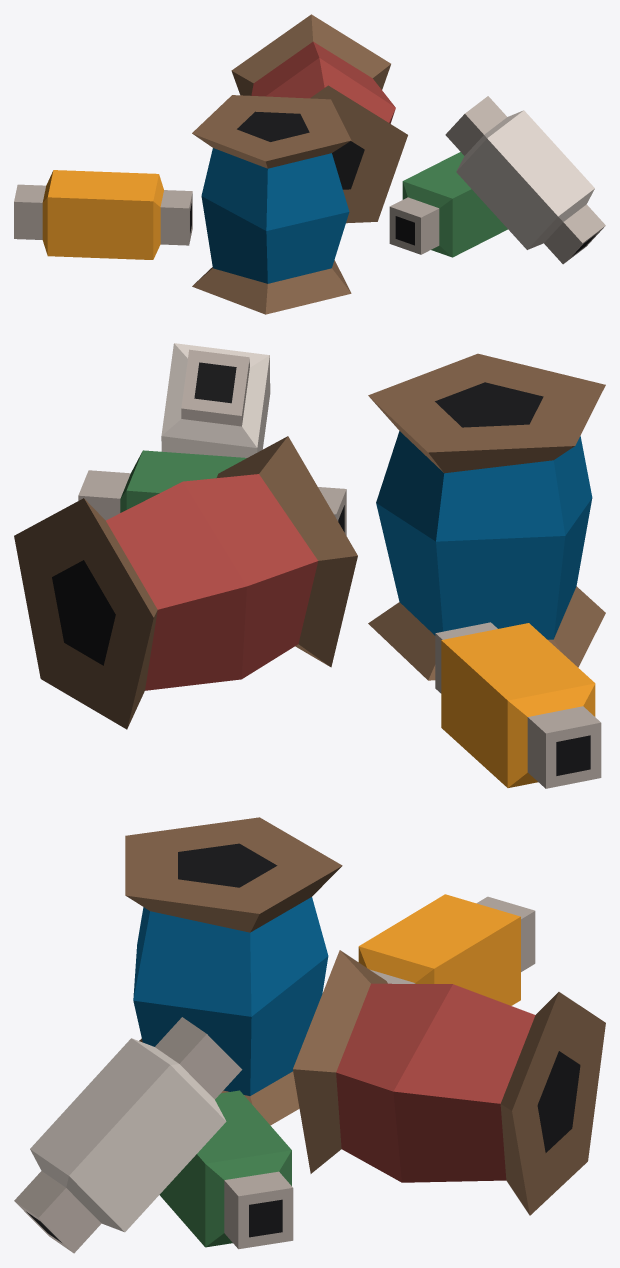
File: SM_Sewing_Threads.gltf
3 views of the same model, one above another, from view 1: azimuth 30°, elevation 25°; view 2: azimuth 150°, elevation 25°; view 3: azimuth 270°, elevation 25° (orthographic). The views are drawn at different scales.
Visible parts, largest first — view 1: SM_Sewing_Threads; view 2: SM_Sewing_Threads; view 3: SM_Sewing_Threads.
Part boxes in pixels (box(x1,y1,x2,y2)): SM_Sewing_Threads: box(14, 14, 605, 314); SM_Sewing_Threads: box(14, 343, 605, 788); SM_Sewing_Threads: box(14, 817, 605, 1253).
Size of the model in its own units: 0.2603 by 0.0878 by 0.2161.
Materials: 1 (1 with a texture image).
